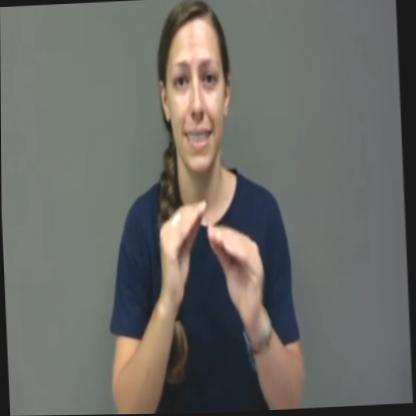Fix: (99, 0, 305, 415)
